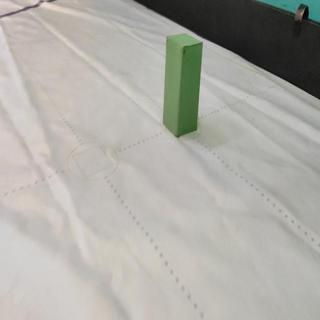greenbox: (161, 31, 205, 139)
